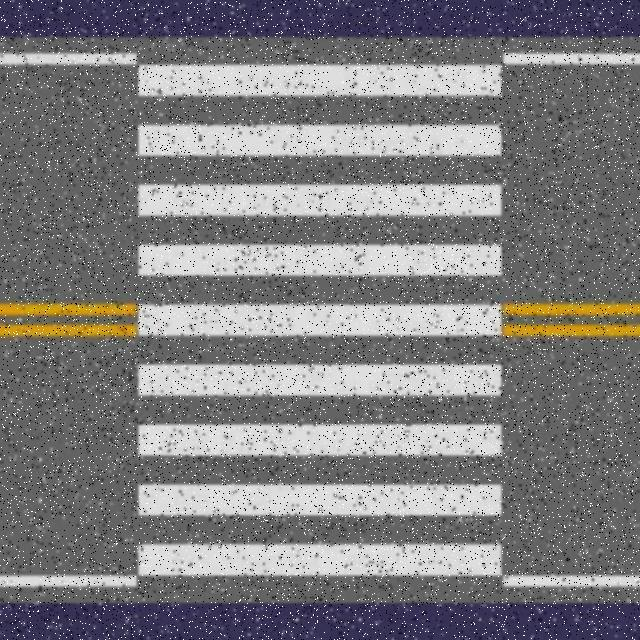Pedestrian crosswalk: (2, 33, 640, 606)
